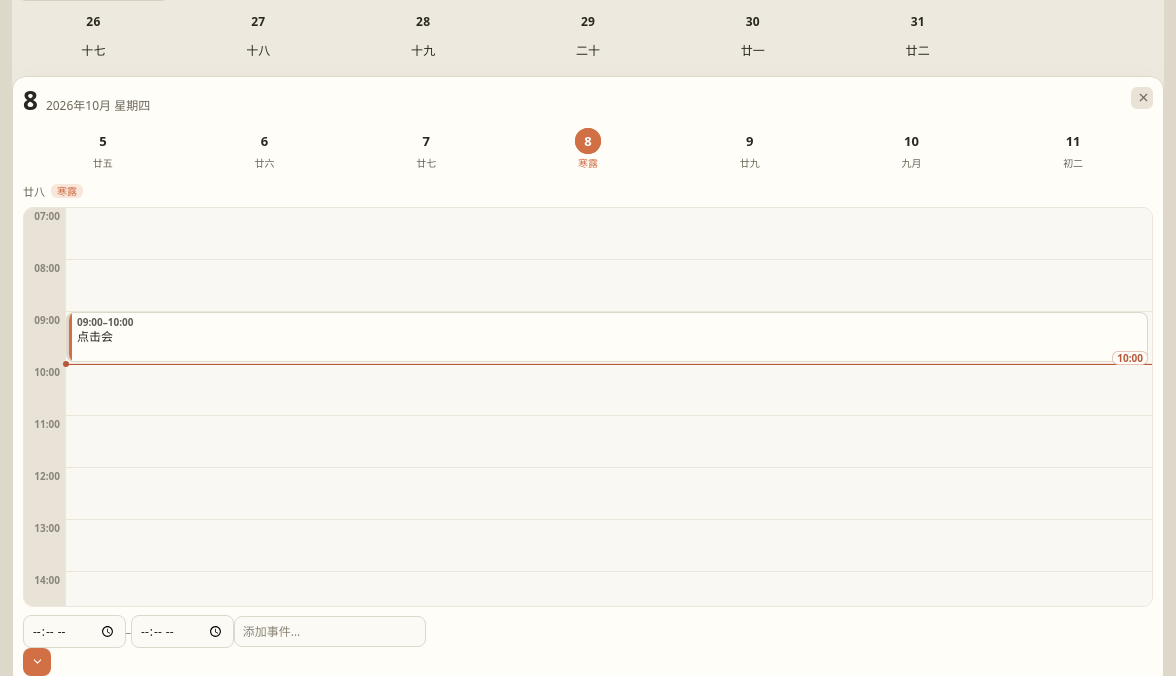
Scenario: CalendarWidget 组件级回归 › 拖拽阈值内（≤4px）视为点击：进编辑而非改时刻
(page scrolled)
Click the button "09:00–10:00 点击会". click: (105, 322)
box: 66,312 -> 1148,362
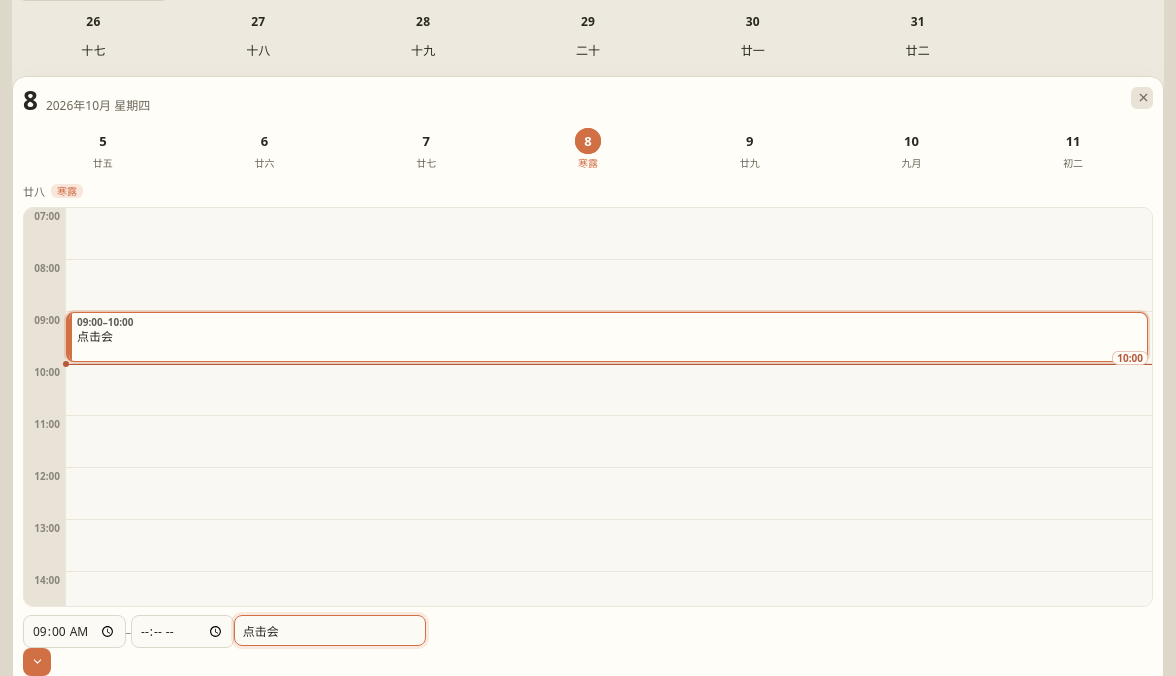
Now the field with placeholder "修改事件…" is shown, box 234,615 -> 426,646
